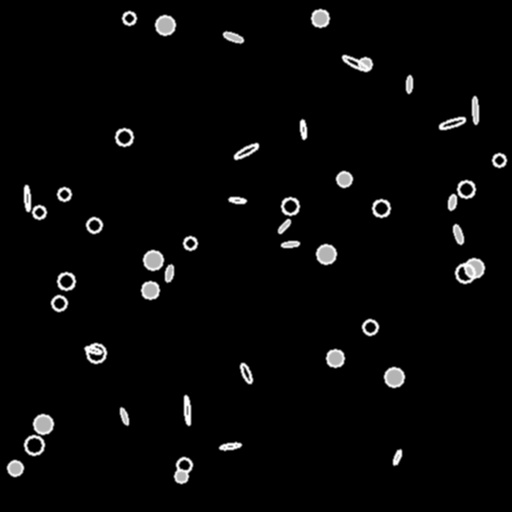pseudomonas: (341, 54, 369, 72), (233, 142, 259, 160), (438, 116, 466, 130), (239, 362, 253, 384), (222, 30, 244, 44), (276, 218, 292, 234), (183, 396, 191, 424), (452, 225, 464, 243), (119, 407, 129, 425), (220, 442, 240, 450), (164, 265, 174, 281), (392, 449, 402, 465), (85, 345, 101, 355), (447, 194, 457, 210), (24, 185, 30, 211), (472, 97, 478, 123), (299, 120, 307, 138), (229, 196, 245, 204), (281, 241, 299, 247), (406, 76, 412, 92)
synechocystis: (317, 245, 335, 263), (25, 436, 43, 454), (144, 251, 162, 269), (156, 16, 174, 34), (34, 415, 52, 433), (465, 259, 483, 277), (385, 368, 403, 386), (456, 264, 474, 282), (87, 344, 105, 362), (327, 350, 343, 366), (373, 200, 389, 216), (282, 198, 298, 214), (116, 129, 132, 145), (312, 10, 328, 26), (142, 282, 158, 298), (458, 181, 474, 197), (58, 273, 74, 289), (177, 458, 191, 472), (337, 172, 351, 186), (52, 296, 66, 310), (8, 461, 22, 475), (87, 218, 101, 232), (363, 320, 377, 334), (58, 188, 70, 200), (359, 58, 371, 70), (184, 237, 196, 249), (33, 206, 45, 218), (123, 12, 135, 24), (175, 470, 187, 482), (493, 154, 505, 166)
